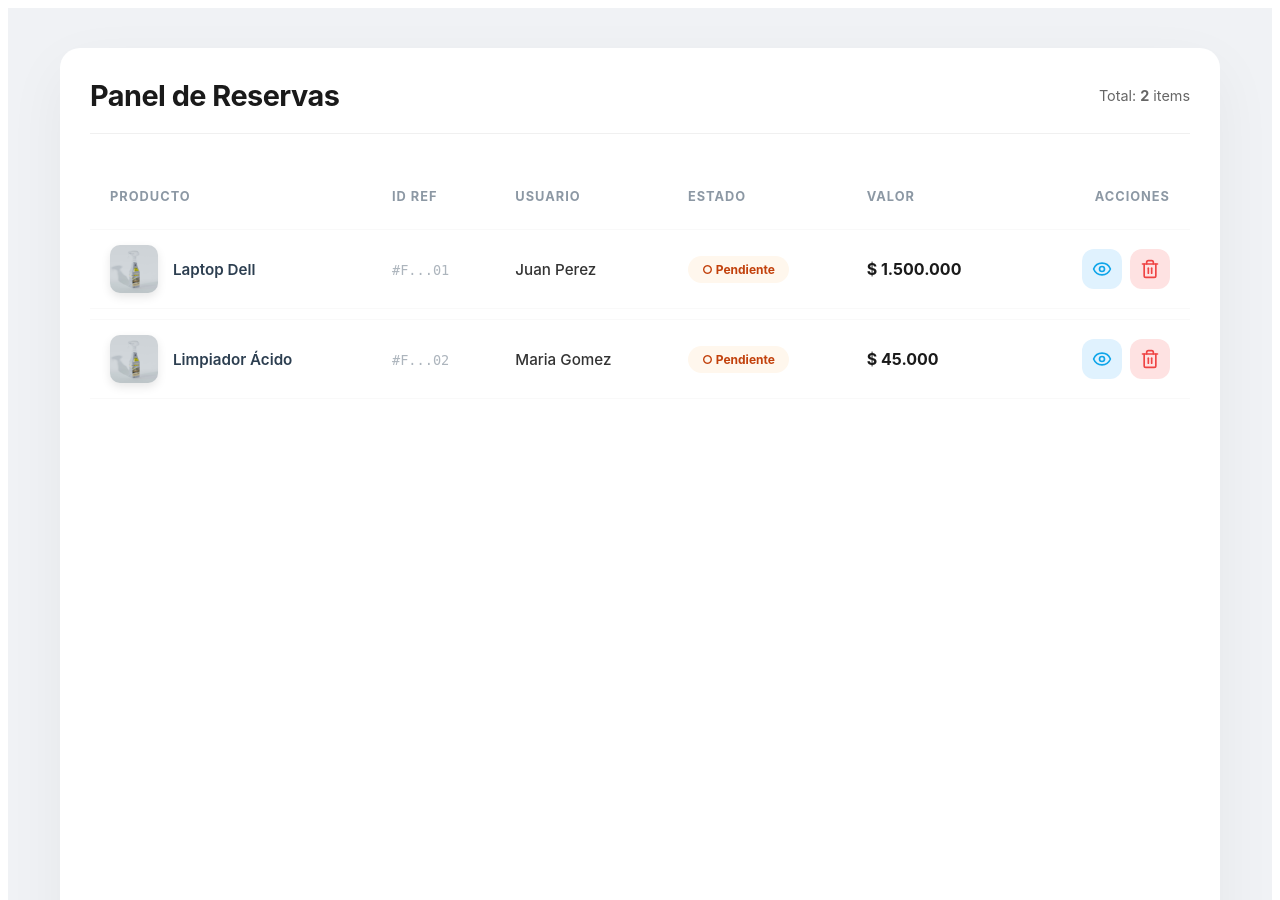
Test: ReservationList Component (SOLID Tests) › Debe eliminar una reserva tras confirmar en el modal
This screenshot has width=1280, height=900.
Check: the text "Laptop Dell" is shown, box top-left (173, 260), bottom-right (256, 278)
Click en Eliminar (Trash icon)
Click the button titled "Eliminar" in the row of "Laptop Dell": click(1150, 269) top-left (1130, 249), bottom-right (1170, 289)
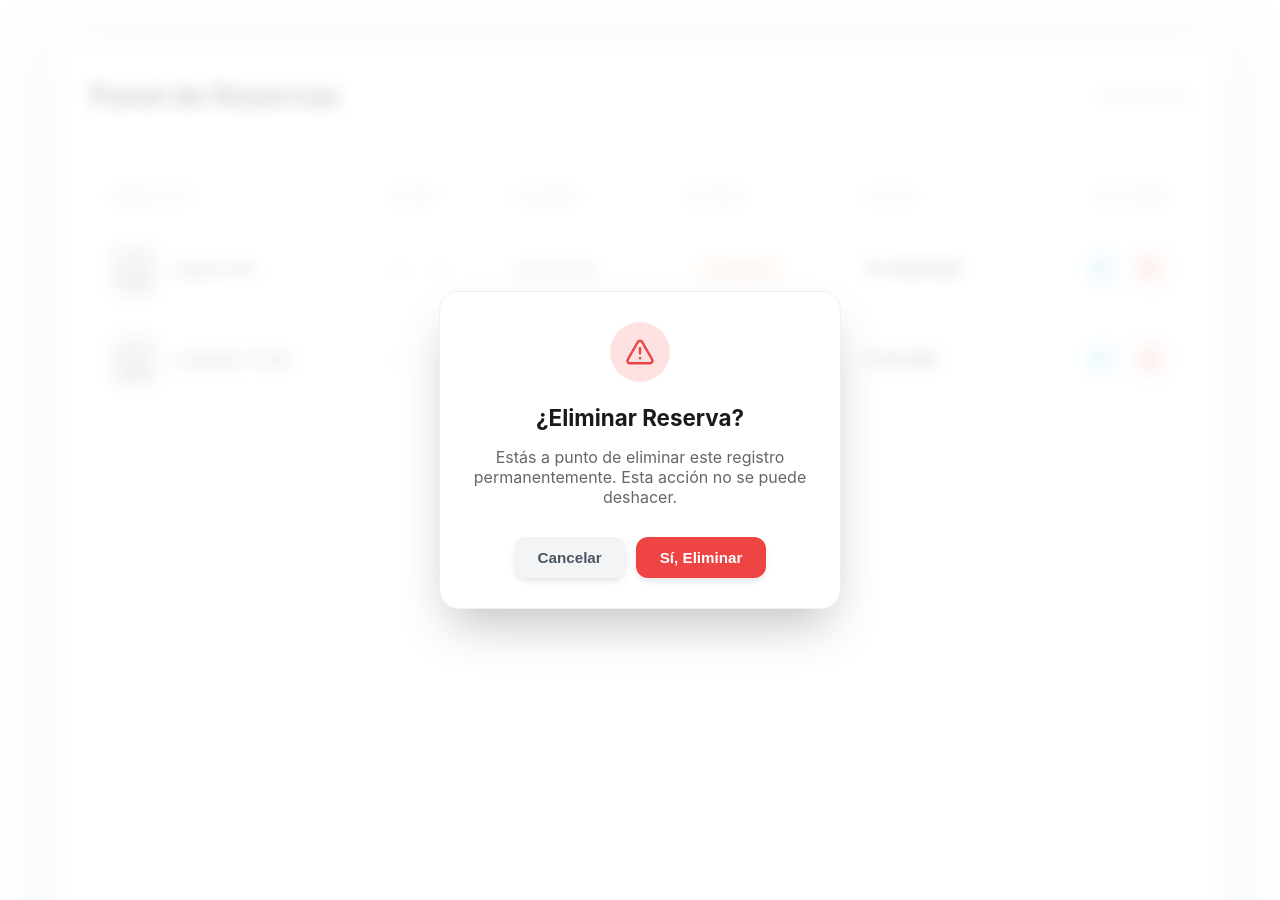
Check: the heading "¿Eliminar Reserva?" is shown, box top-left (536, 404), bottom-right (744, 431)
Click en "Sí, Eliminar" dentro del modal
Click the button "Sí, Eliminar": click(701, 558) top-left (636, 537), bottom-right (766, 578)
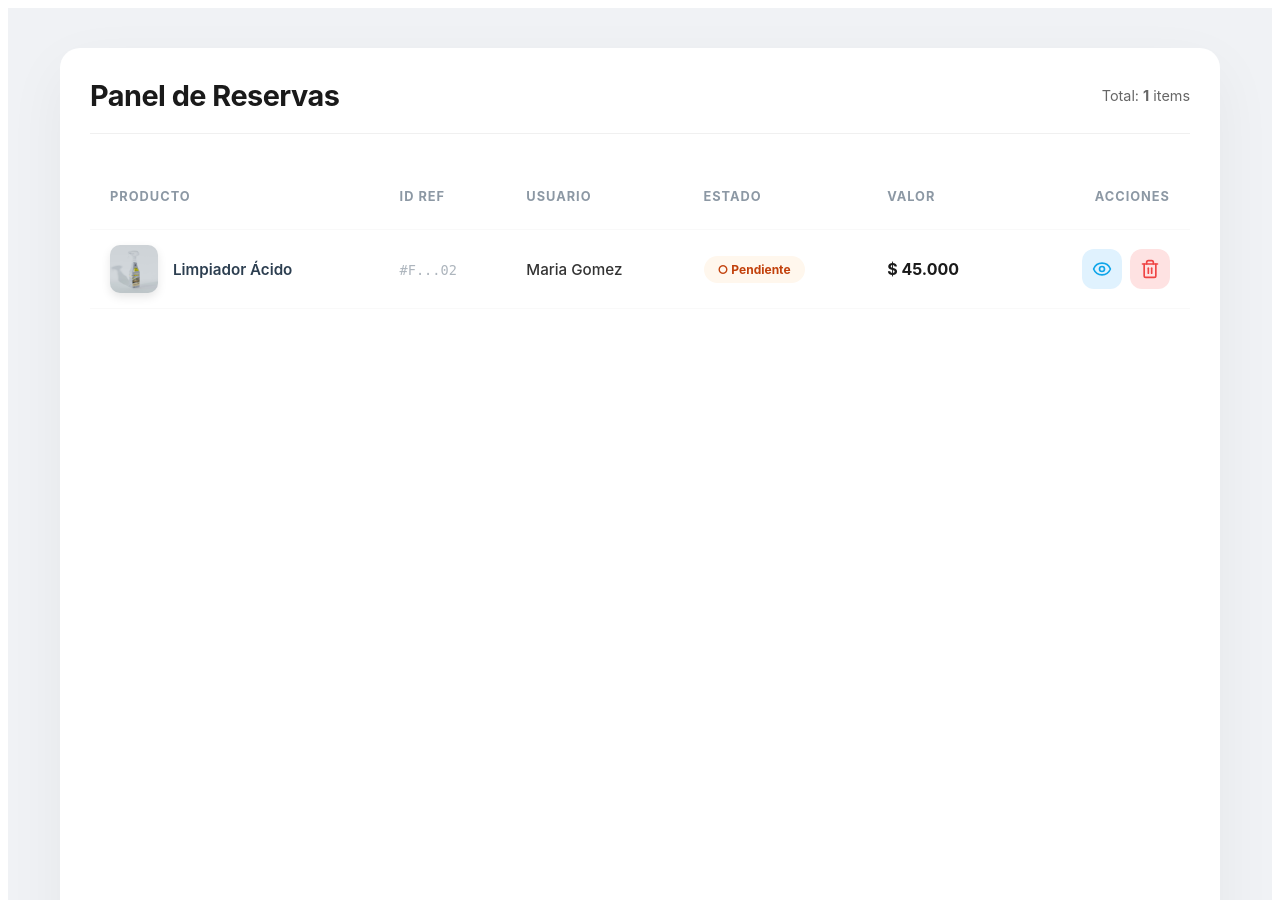
Check: the text "Laptop Dell" is gone
